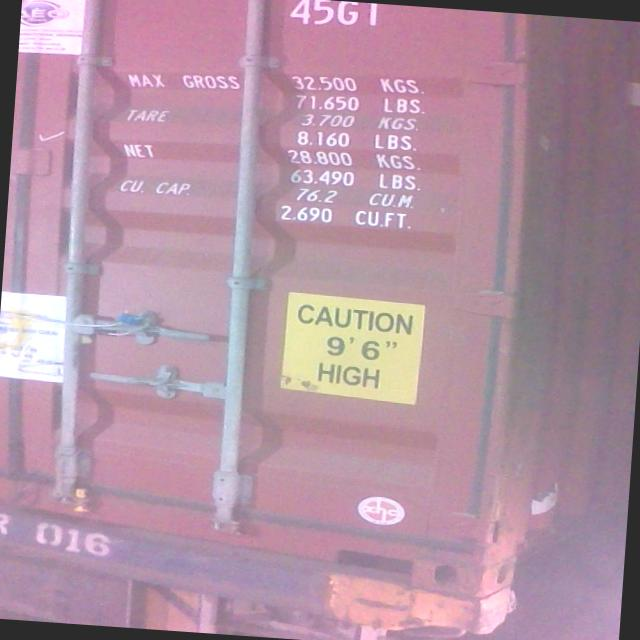seal: (62, 478, 94, 513)
